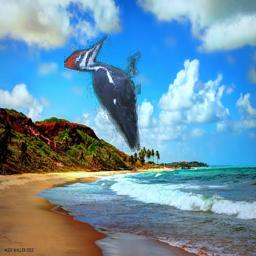Woodpecker: (65, 34, 142, 153)
